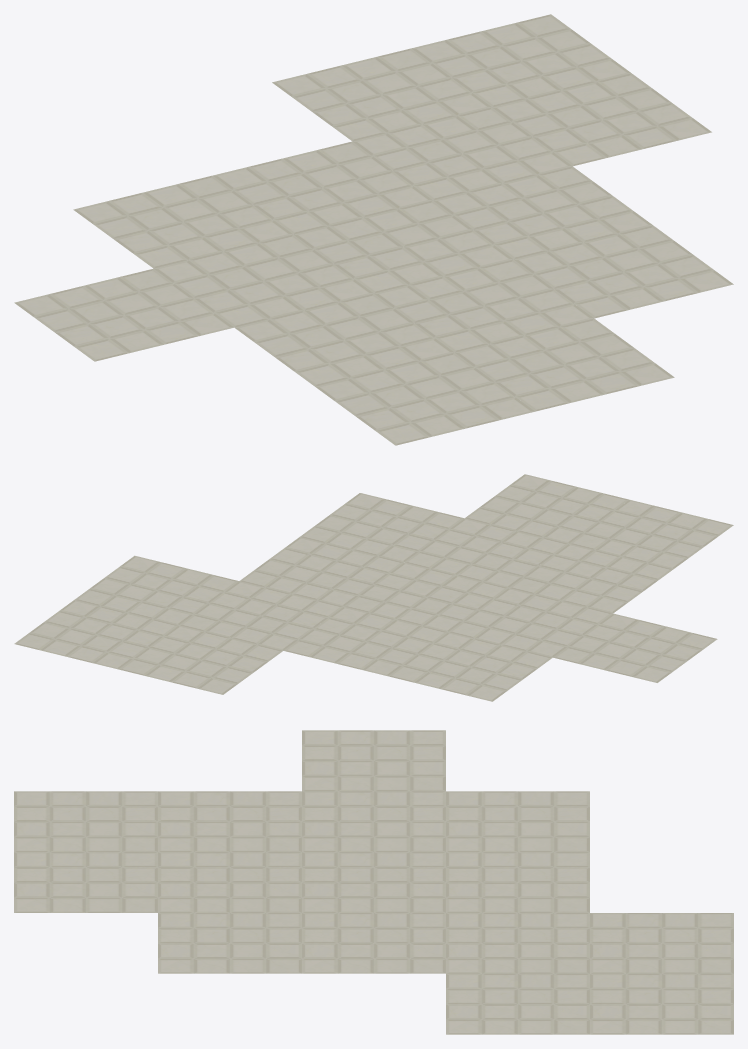
File: Homeworld_Interior_Fd_Room_K_Floor_01_Vo.fbx
3 views of the same model, one above another, from view 1: azimuth 30°, elevation 25°; view 2: azimuth 150°, elevation 25°; view 3: azimuth 270°, elevation 25° (orthographic). The views are drawn at different scales.
Visible parts, largest first — view 1: Homeworld_Interior_Fd_Room_Floor_01_Vo (×15); view 2: Homeworld_Interior_Fd_Room_Floor_01_Vo (×15); view 3: Homeworld_Interior_Fd_Room_Floor_01_Vo (×15).
Part boxes in pixels (x1=…): Homeworld_Interior_Fd_Room_Floor_01_Vo (×15): x1=14, y1=14, x2=733, y2=445; Homeworld_Interior_Fd_Room_Floor_01_Vo (×15): x1=14, y1=474, x2=733, y2=701; Homeworld_Interior_Fd_Room_Floor_01_Vo (×15): x1=14, y1=730, x2=733, y2=1034.
Size of the model in its own units: 25 by 1.27e-06 by 25.
